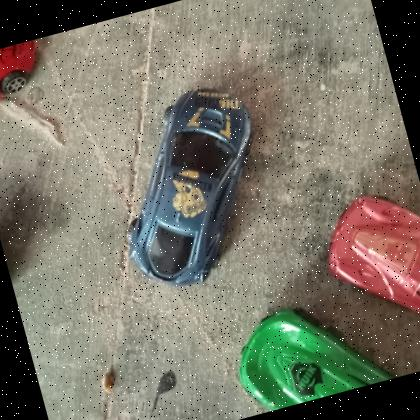Car: (93, 74, 292, 302)
